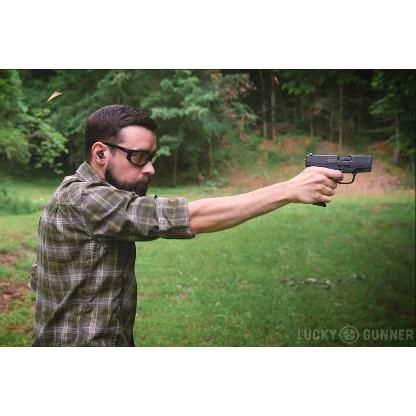gun: (302, 150, 372, 206)
